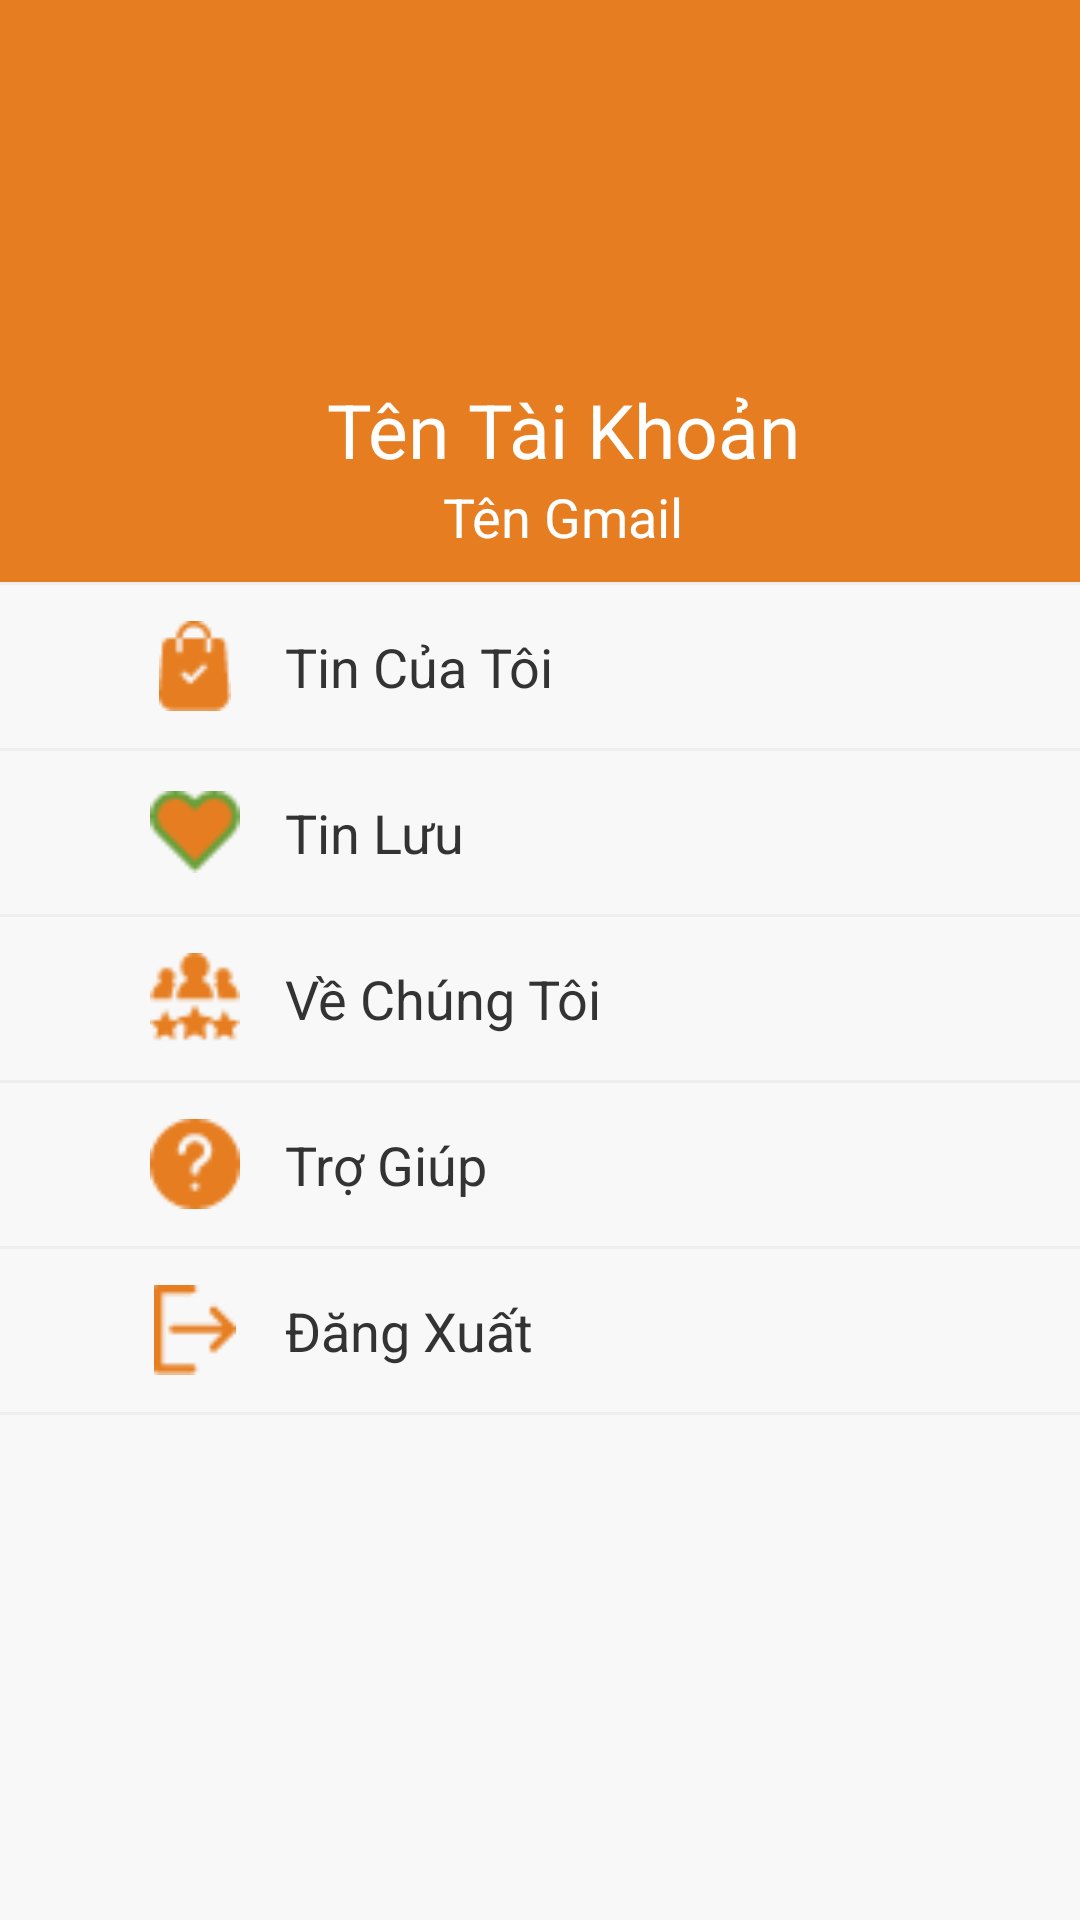

Screen size 1080 × 1920. Icon name, then its box in pixels as (x1, y1, x2, y2):
question: (150, 1119, 240, 1209)
shopping: (159, 621, 231, 711)
tim: (150, 791, 240, 873)
